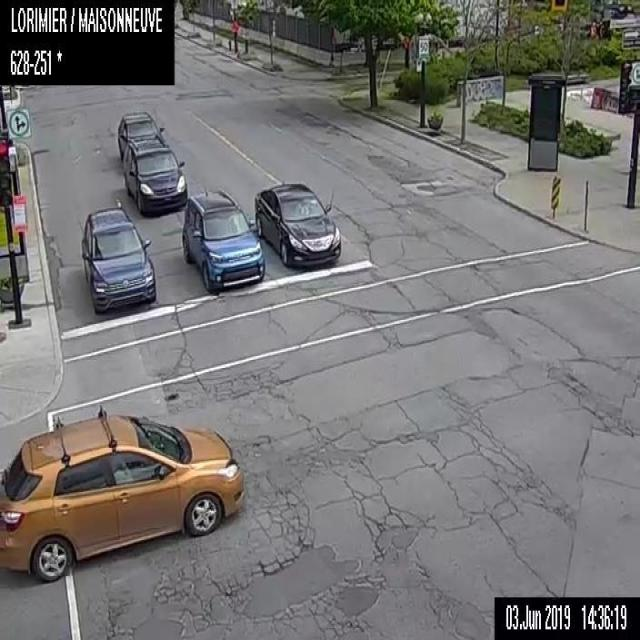vehicle: (0, 407, 245, 582), (181, 190, 265, 294), (80, 206, 156, 314), (254, 181, 341, 268), (122, 135, 187, 217), (118, 112, 164, 161)
